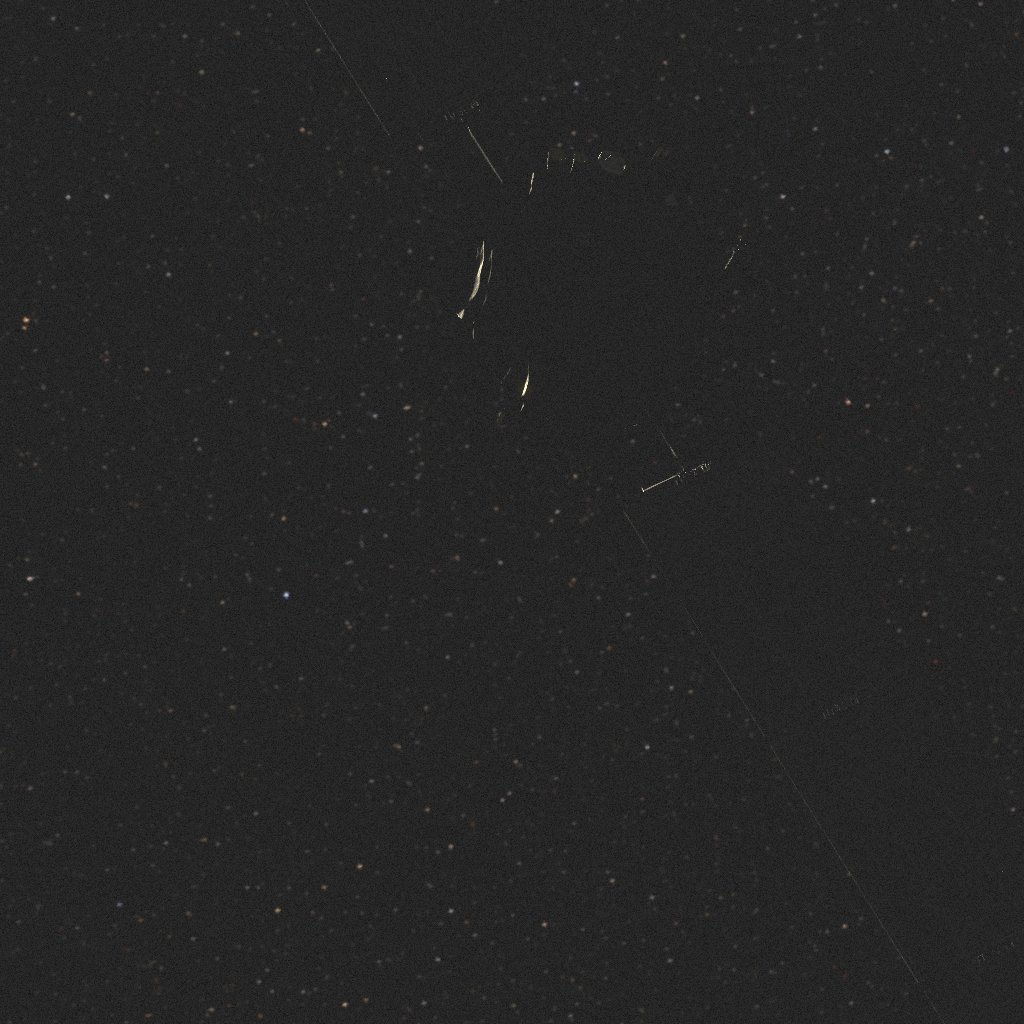smart_1: (286, 12, 987, 998)
